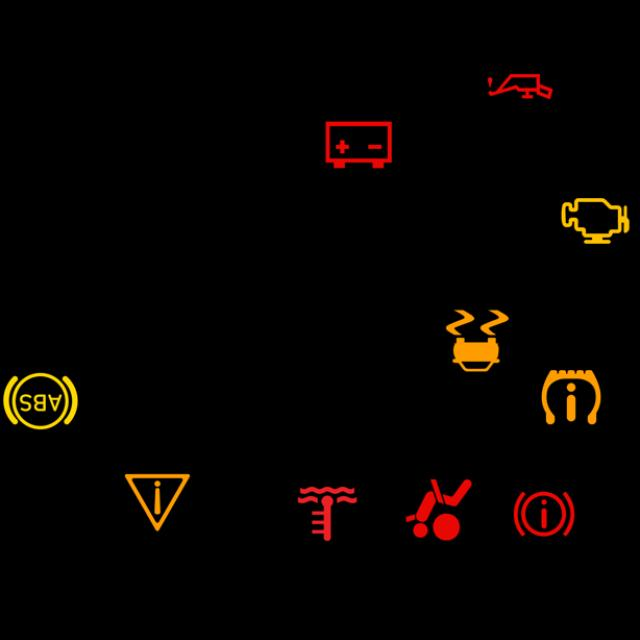Anti Lock Braking System: (0, 360, 81, 442)
Braking System Issue: (503, 472, 585, 554)
Charging System Issue: (318, 103, 400, 185)
Check Engine: (554, 179, 636, 261)
Electronic Stability Problem -ESP-: (436, 299, 518, 381)
Engine Overheating Warning Light: (286, 472, 368, 554)
Low Engine Oil Warning Light: (479, 45, 561, 126)
Low Tire Pressure Warning Light: (530, 355, 612, 437)
Master warning light: (116, 460, 198, 542)
SRS-Airbag: (398, 468, 480, 550)
